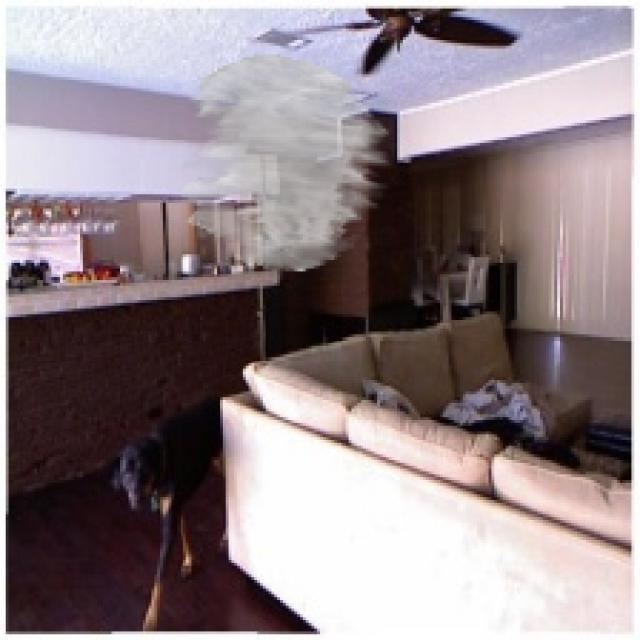Smoke: (180, 55, 392, 272)
